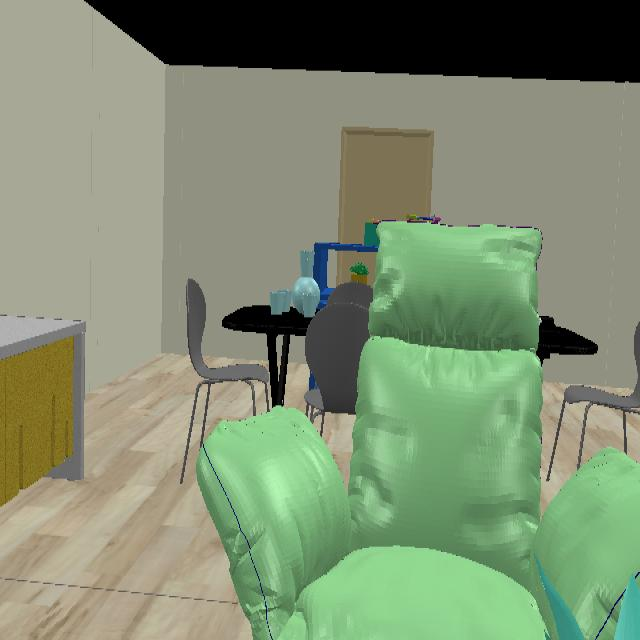chair: (304, 283, 372, 415), (184, 280, 269, 385), (565, 369, 640, 415)
sofa: (196, 223, 640, 640)
table: (221, 305, 311, 407), (538, 316, 599, 360)
